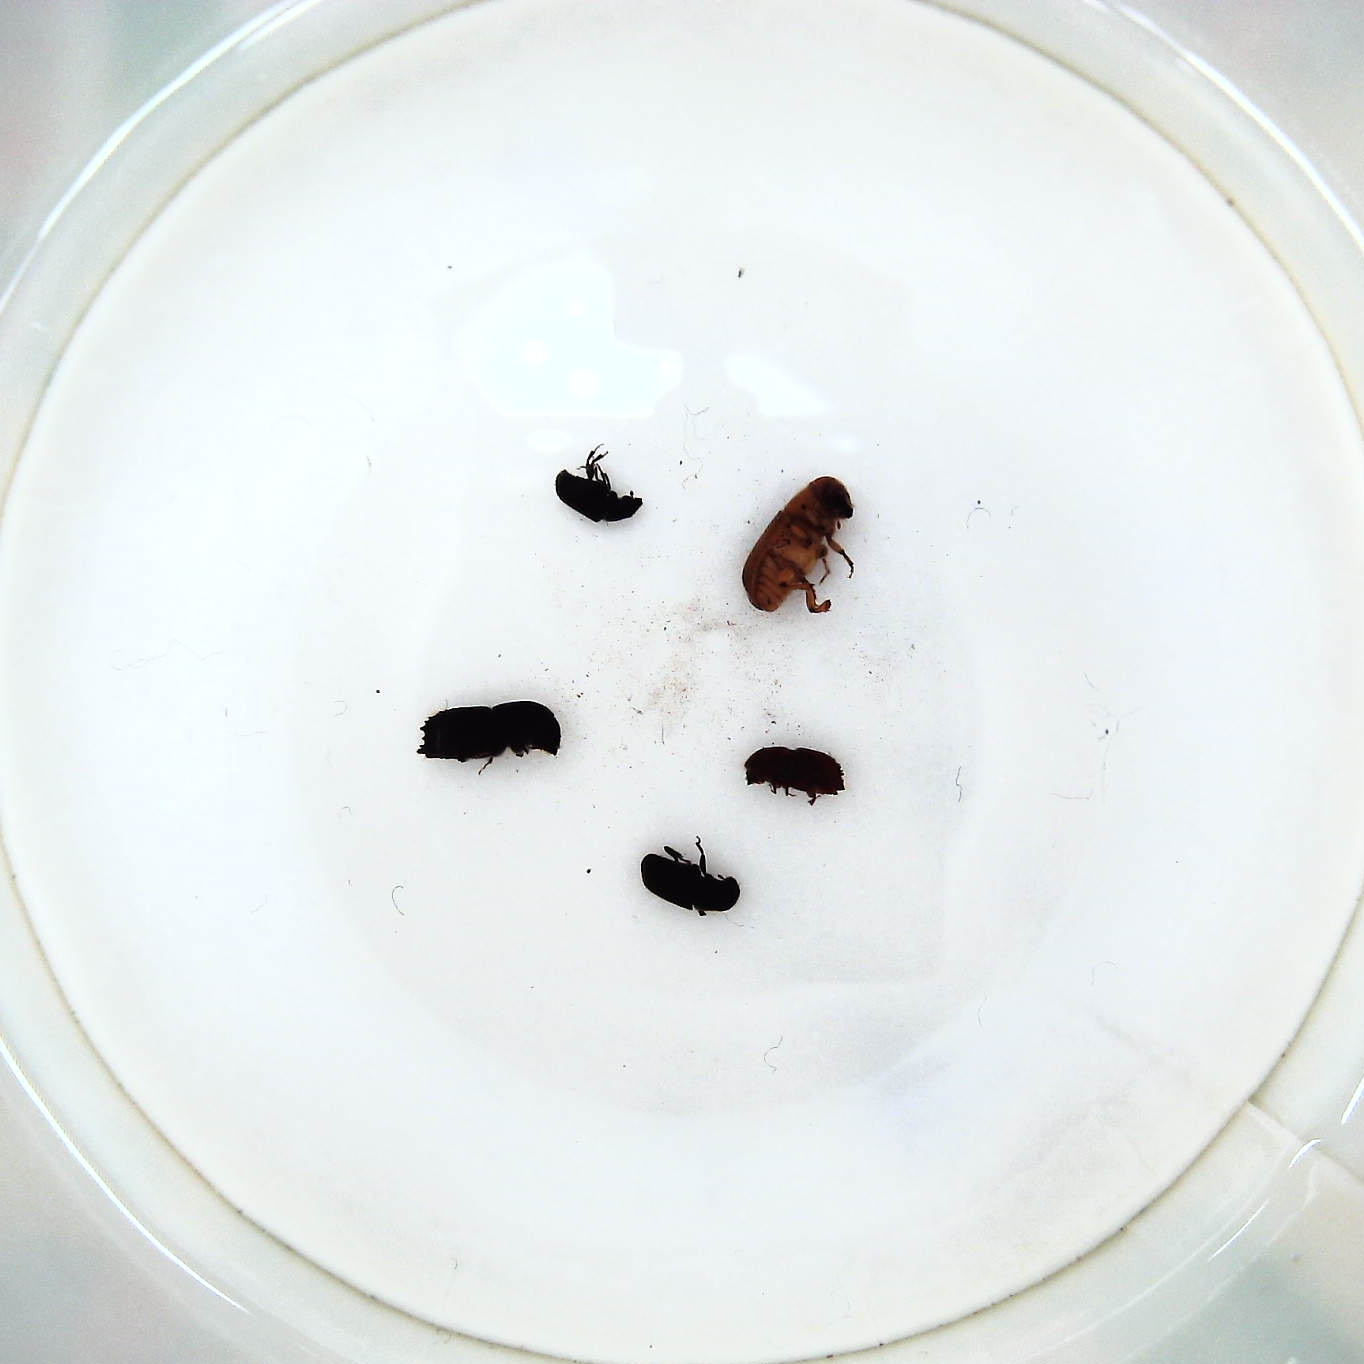Boerner: (413, 697, 567, 773)
Leconte: (734, 473, 857, 622)
armandi: (638, 836, 743, 922)
coleoptera: (555, 441, 645, 531)
linnaeus: (734, 744, 852, 804)
